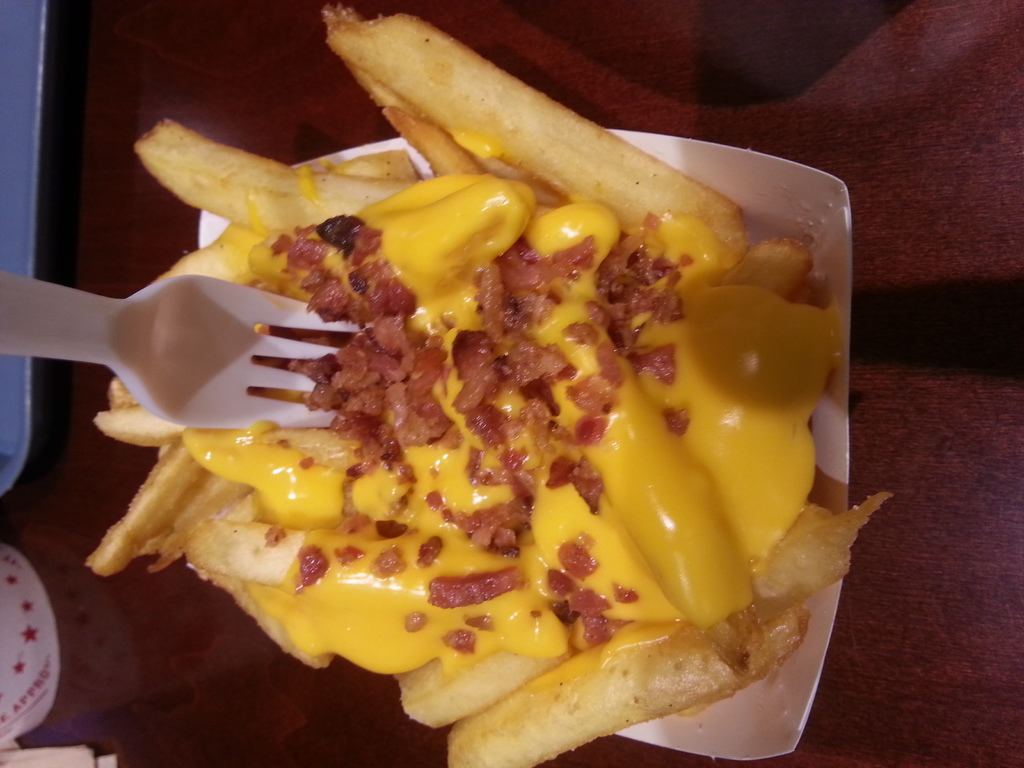French fries: (86, 236, 898, 767), (206, 0, 752, 232)
